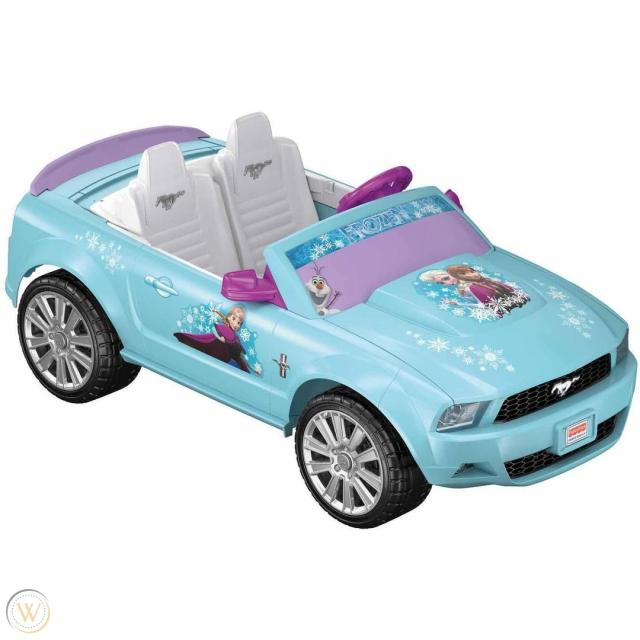Car: (4, 113, 638, 529)
